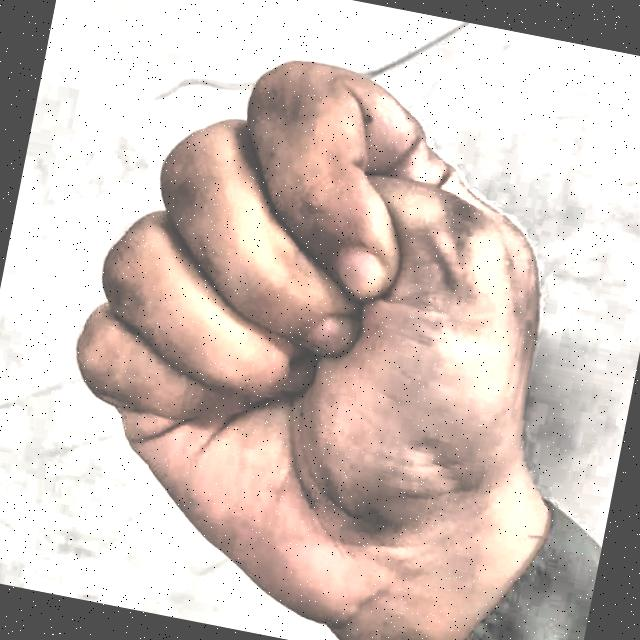To: (4, 0, 620, 640)
